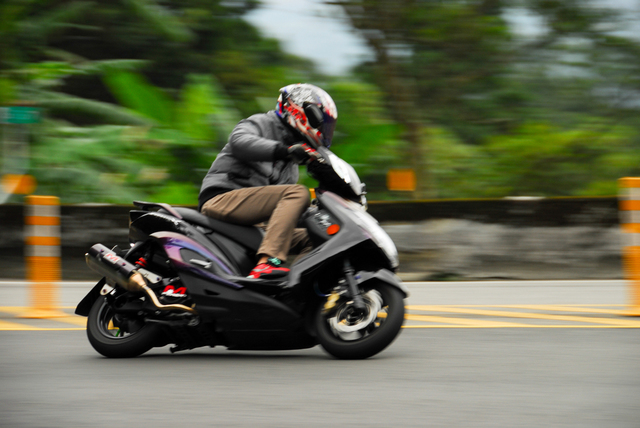helmet: (274, 81, 338, 144)
